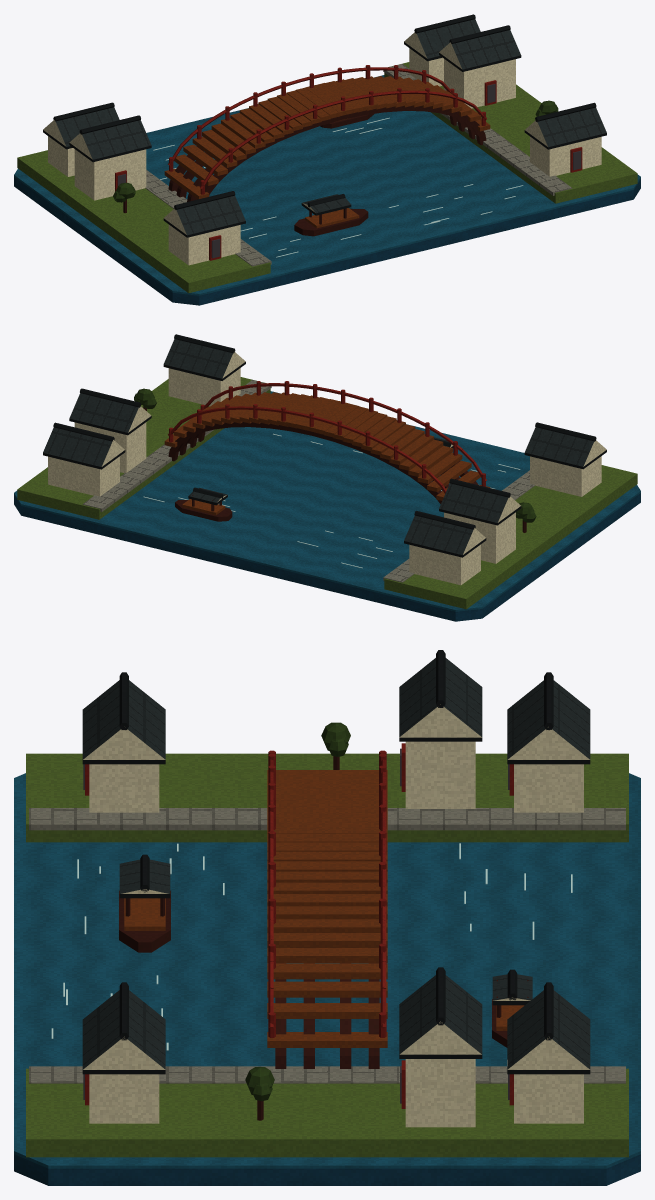
The model's file is qingming-park.glb.
The picture shows the model from 3 angles, top to bottom: view 1: azimuth 30°, elevation 25°; view 2: azimuth 150°, elevation 25°; view 3: azimuth 270°, elevation 25°; orthographic projection. The views are drawn at different scales.
Visible parts, largest first — view 1: 开封清明上河园; view 2: 开封清明上河园; view 3: 开封清明上河园.
Boxes of the visible parts, left/top/right/bottom form: 开封清明上河园: left=14, top=14, right=640, bottom=305; 开封清明上河园: left=14, top=334, right=640, bottom=621; 开封清明上河园: left=14, top=650, right=640, bottom=1185.
Bounding box in the file's own units: 11 × 2.28 × 7.25.
Materials: 13 (11 with a texture image).
